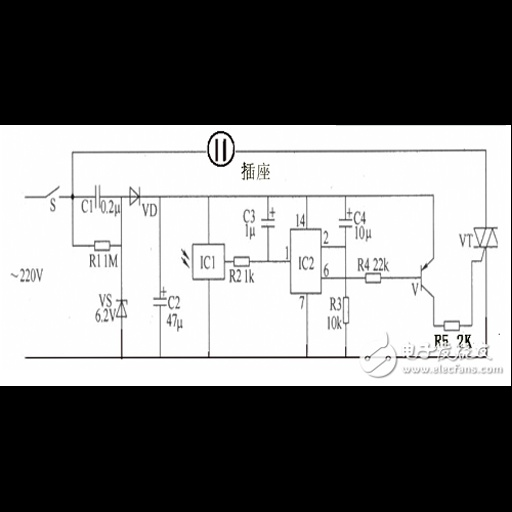capacitor: (91, 182, 103, 209)
firstpolarcapacitor: (259, 207, 280, 232), (337, 207, 353, 231), (149, 287, 168, 307)
firstresistance: (439, 316, 466, 333), (342, 293, 354, 327), (361, 271, 387, 286), (232, 251, 253, 269), (91, 237, 112, 252)
pnp: (417, 253, 439, 297)
seconddiode: (125, 184, 141, 205)
